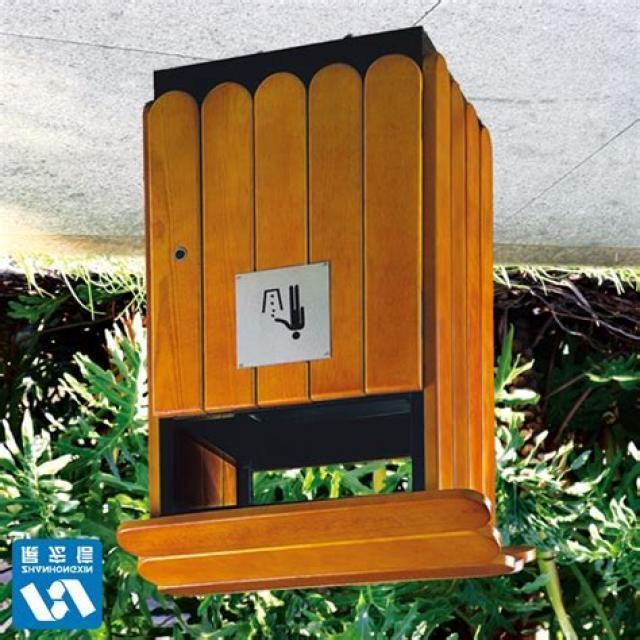garbage container: (112, 36, 523, 611)
